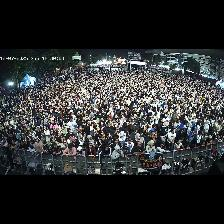person: (99, 144, 112, 169), (85, 143, 96, 160), (132, 141, 145, 155), (167, 129, 176, 149), (63, 144, 76, 157), (49, 143, 62, 156), (112, 146, 124, 159), (160, 122, 168, 141), (155, 140, 167, 152), (121, 143, 130, 158), (175, 130, 186, 142), (95, 135, 103, 151), (133, 134, 144, 145), (111, 139, 122, 150), (126, 137, 134, 152), (35, 137, 43, 152), (146, 141, 156, 153), (84, 135, 94, 147), (67, 116, 75, 131), (76, 133, 85, 146), (145, 132, 155, 143), (58, 137, 67, 149), (189, 127, 196, 142), (175, 140, 185, 150), (46, 131, 53, 145), (105, 133, 113, 145), (119, 131, 126, 144), (188, 138, 197, 148), (65, 129, 74, 139), (56, 131, 65, 141), (19, 141, 28, 150), (121, 123, 130, 132), (103, 122, 111, 132), (182, 136, 188, 148), (29, 143, 35, 155), (174, 119, 180, 131), (41, 132, 46, 146), (60, 125, 67, 135), (71, 137, 77, 148), (21, 134, 28, 143), (130, 130, 137, 139), (205, 136, 212, 145), (111, 130, 118, 139), (77, 147, 84, 155), (15, 142, 20, 153), (2, 138, 8, 147), (212, 136, 218, 144), (51, 138, 58, 144), (67, 135, 72, 143), (202, 133, 208, 139)
